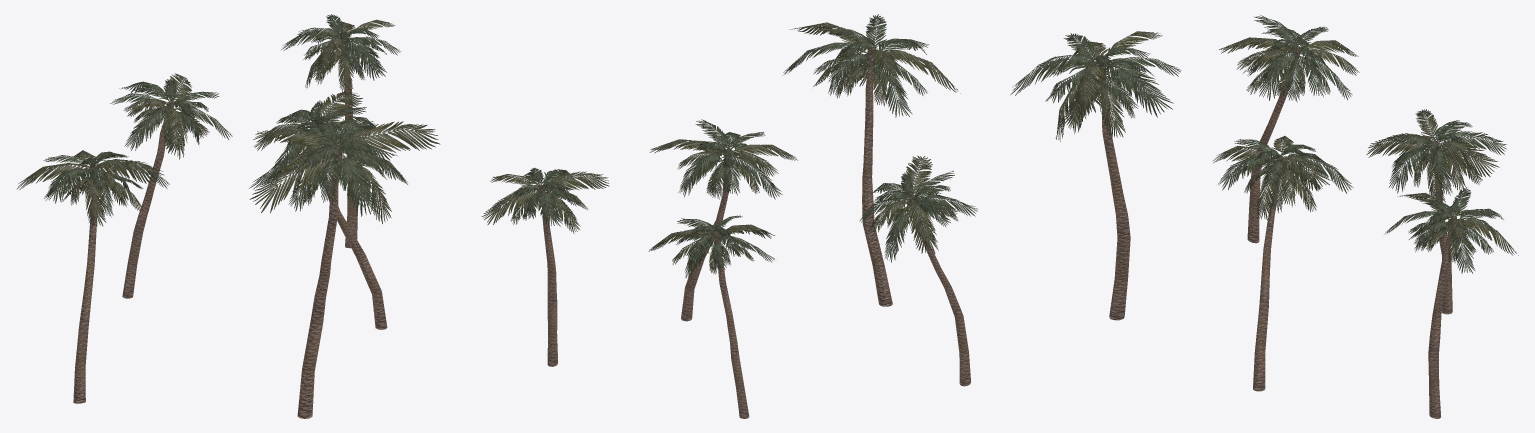
File: palm_set.glb
The picture shows the model from 3 angles, left to right: view 1: azimuth 30°, elevation 25°; view 2: azimuth 150°, elevation 25°; view 3: azimuth 270°, elevation 25°; orthographic projection. The views are drawn at different scales.
Visible parts, largest first — view 1: Palm Tree By Hamza_002_1212-mat_0; view 2: Palm Tree By Hamza_002_1212-mat_0; view 3: Palm Tree By Hamza_002_1212-mat_0.
Part boxes in pixels (box(x1,y1,x2,y2)): Palm Tree By Hamza_002_1212-mat_0: box(16, 14, 440, 418); Palm Tree By Hamza_002_1212-mat_0: box(481, 14, 978, 418); Palm Tree By Hamza_002_1212-mat_0: box(1010, 15, 1518, 418).
Bounding box in the file's own units: 16.8 × 10.29 × 16.89.
Materials: 1 (1 with a texture image).
